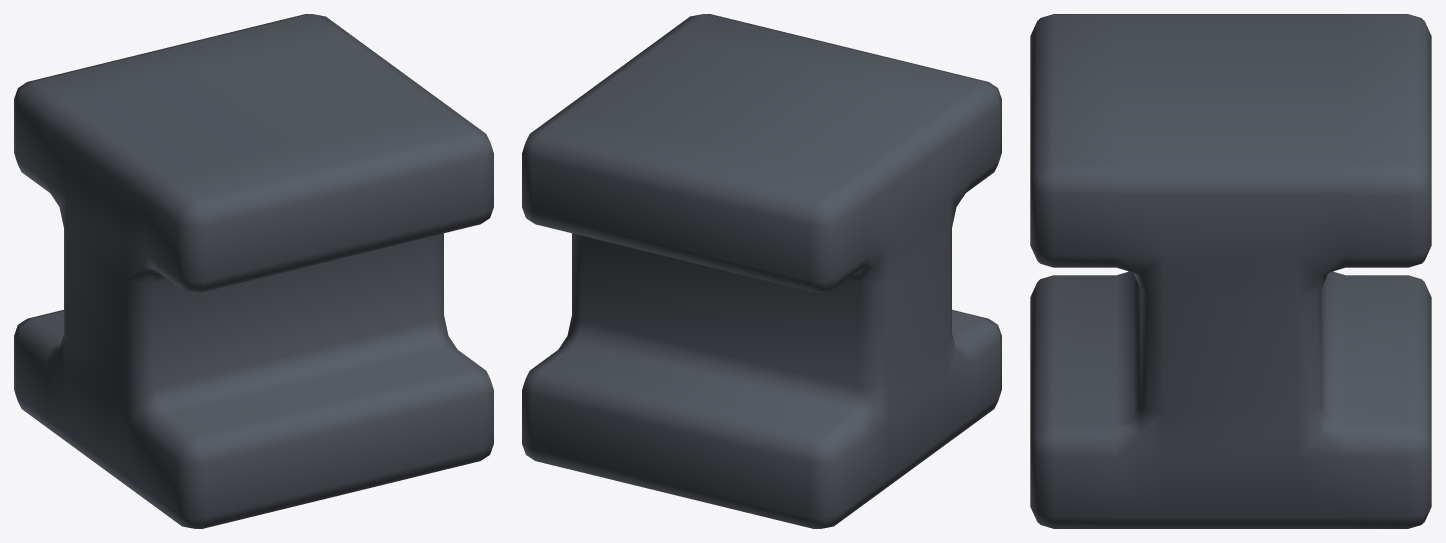
Rendered from Iron_Bar_L1.fbx.
The picture shows the model from 3 angles, left to right: view 1: azimuth 30°, elevation 25°; view 2: azimuth 150°, elevation 25°; view 3: azimuth 270°, elevation 25°; orthographic projection. The views are drawn at different scales.
Parts seen in each view (by area): view 1: Iron Bar; view 2: Iron Bar; view 3: Iron Bar.
Part boxes in pixels (x1,y1,x2,y2): Iron Bar: (14,14,493,528); Iron Bar: (522,14,1001,528); Iron Bar: (1030,14,1431,528).
Size of the model in its own units: 79.94 by 79.94 by 79.94.
